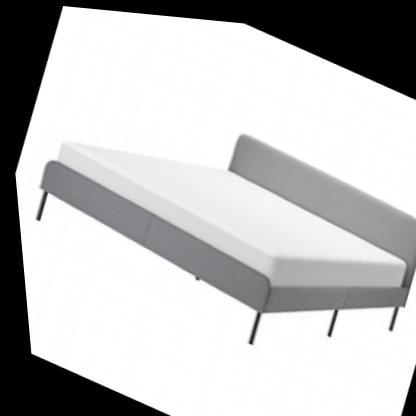Bed: (1, 19, 416, 416)
